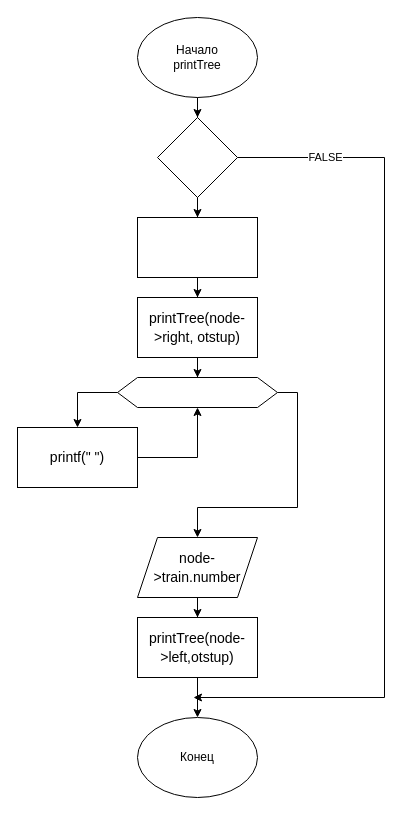
Some shapes in this 410 by 815 pixel diagram are drawn without their labels. Here are the shapes that lost their labels. From the top down, the box of each, then its label:
(156, 116, 238, 198): node
(136, 216, 258, 278): otstup+=3
(116, 376, 278, 408): i=0; i < otstup; i++
